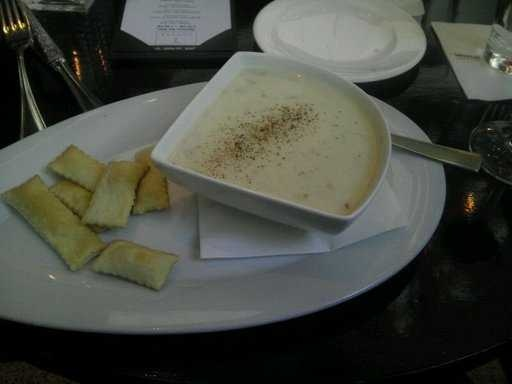soup: (165, 79, 377, 191)
